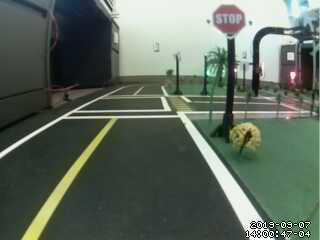Stop_Sign: (210, 3, 251, 39)
